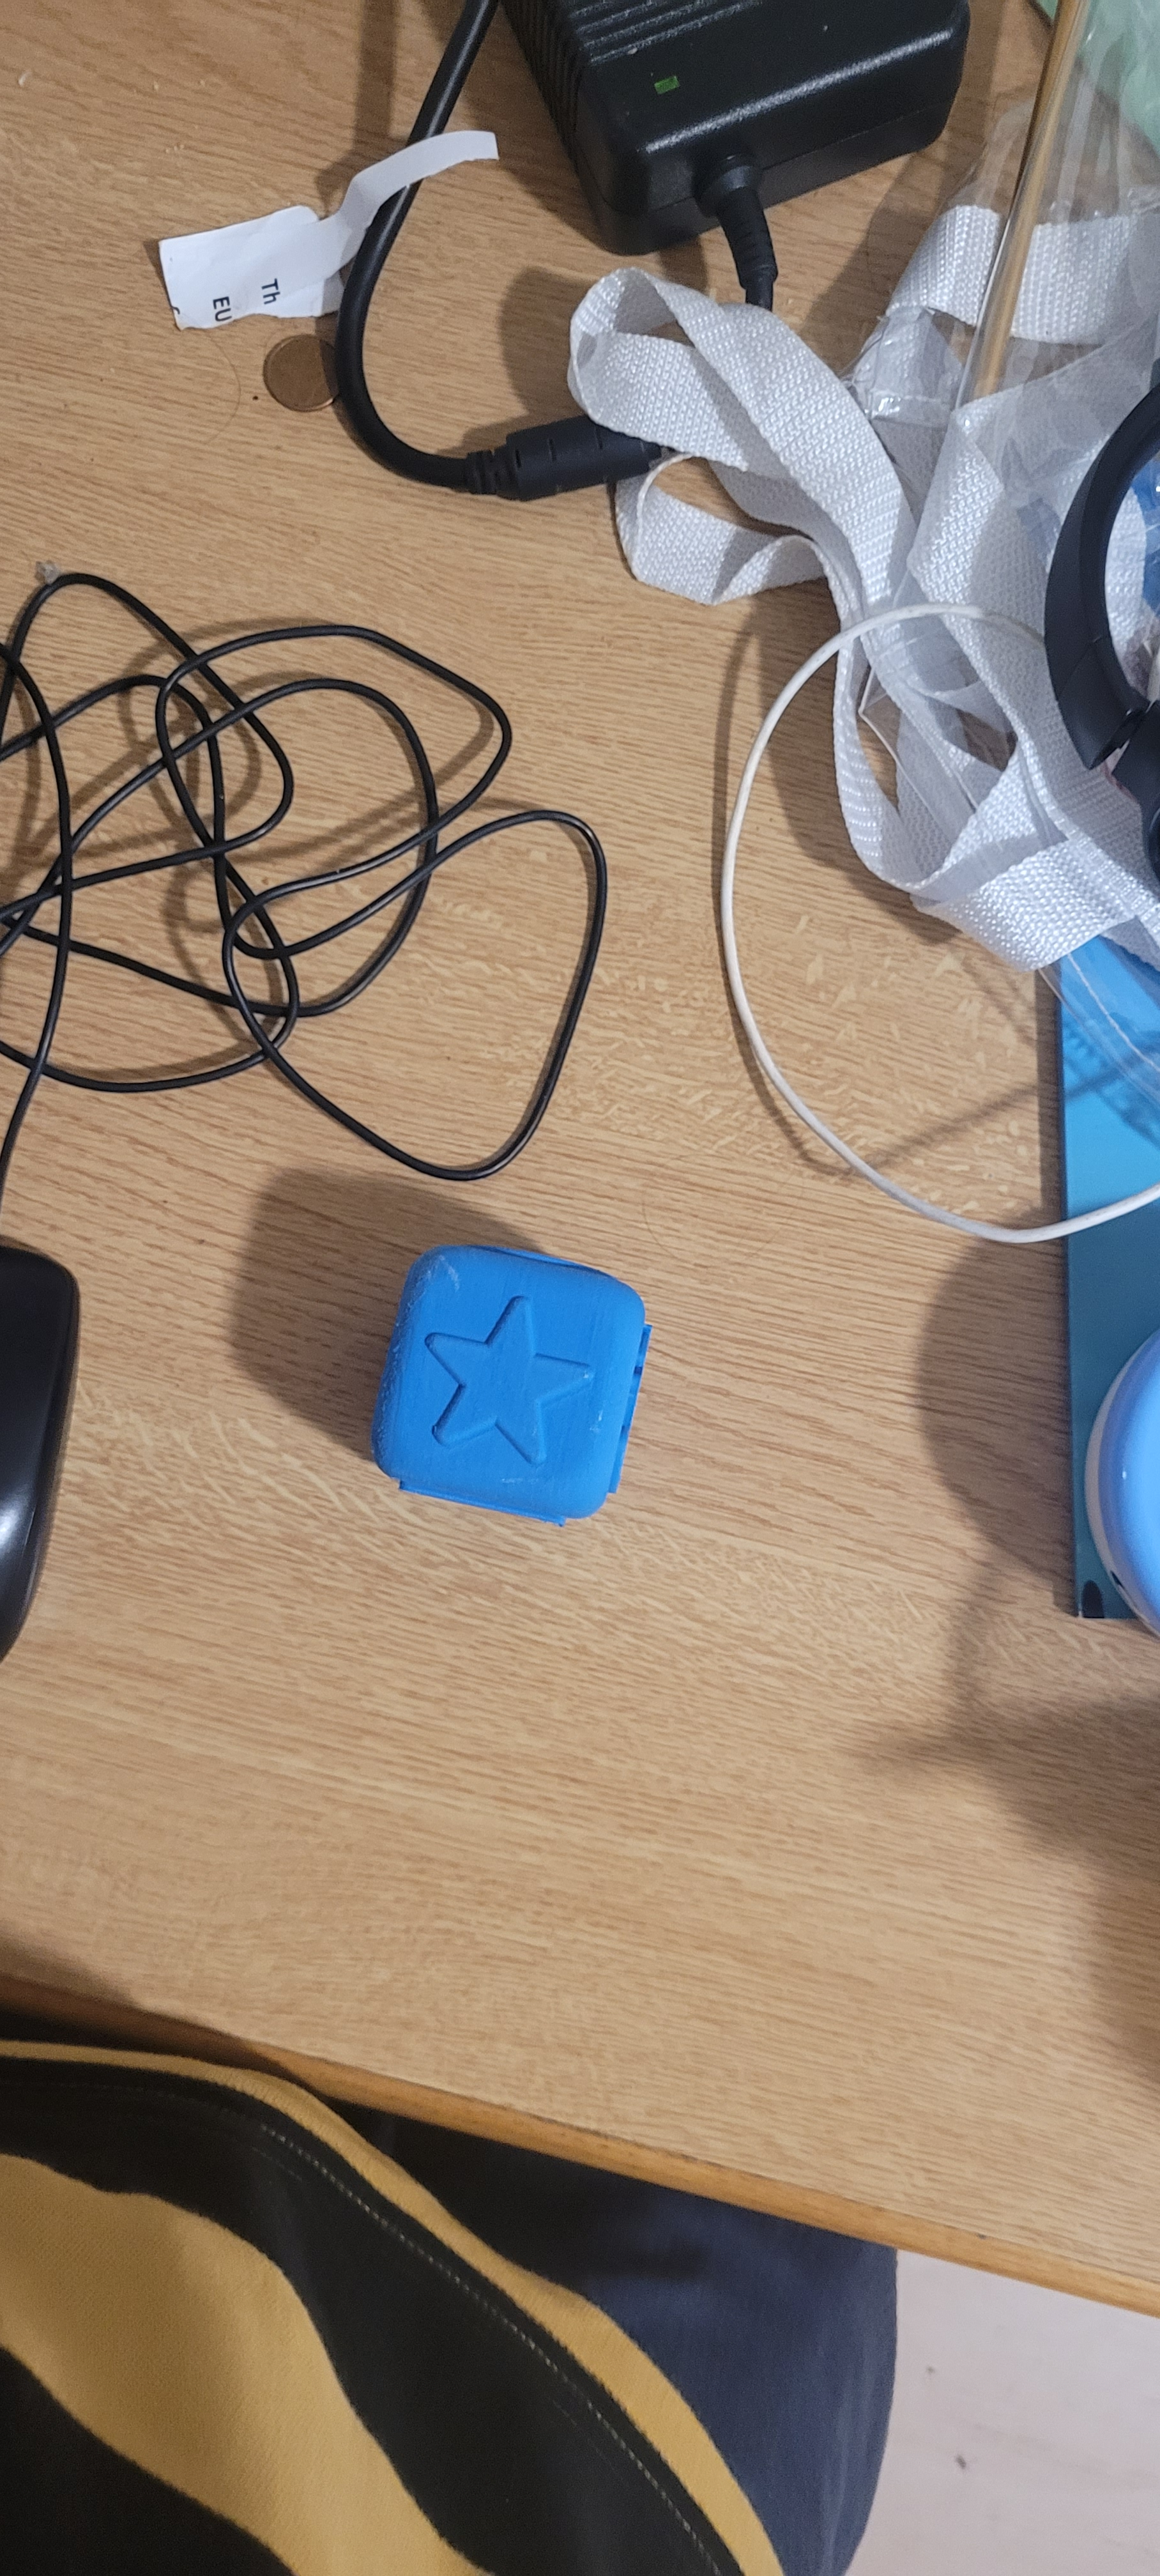Star: (411, 1249, 665, 1506)
